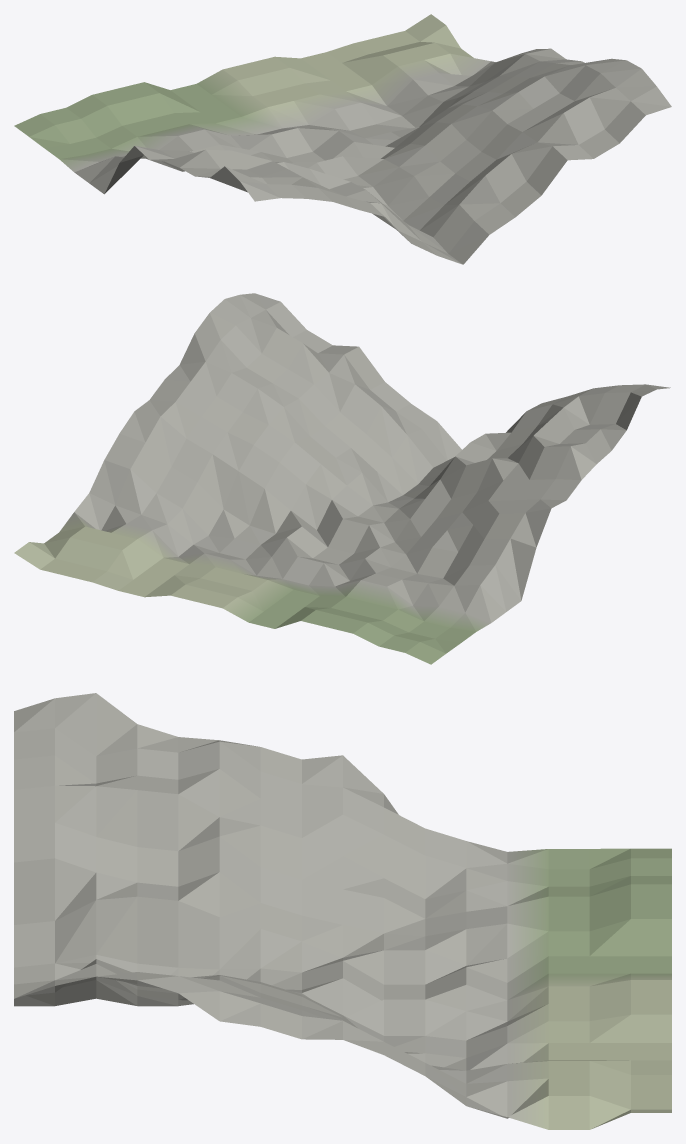
3 renders of one model, top to bottom at view 1: azimuth 30°, elevation 25°; view 2: azimuth 150°, elevation 25°; view 3: azimuth 270°, elevation 25°, orthographic. The views are drawn at different scales.
Size of the model in its own units: 32 by 9.34 by 32.
